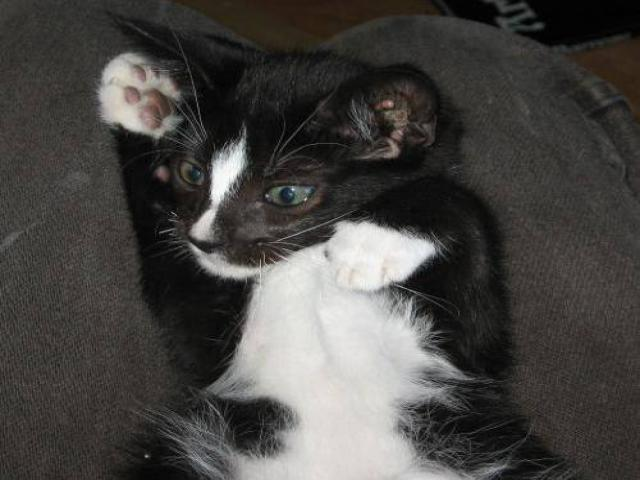cat: (68, 6, 609, 479)
